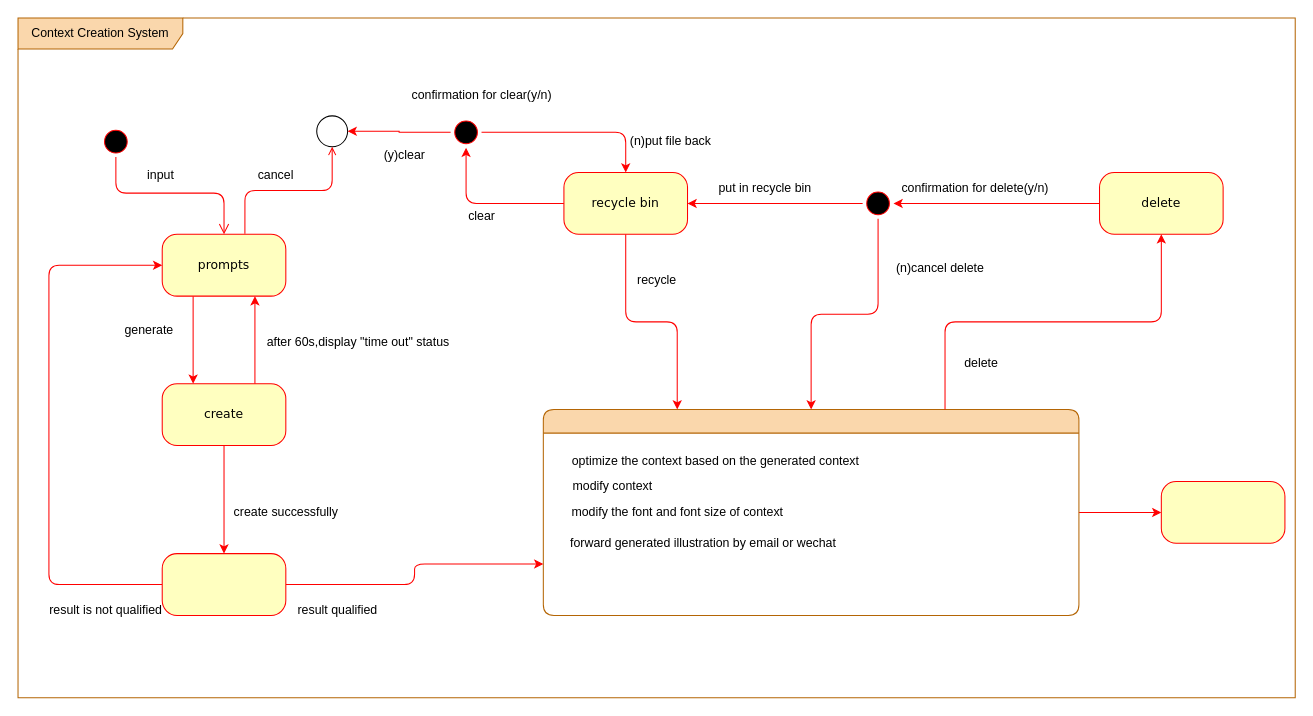
The diagram is 1313 pixels wide and 716 high, and some of its shapes have lost their labels. Each missing label, with the box of its shape:
archive: (1160, 480, 1285, 543)
Operation: (542, 408, 1079, 615)
result check: (161, 553, 286, 615)
